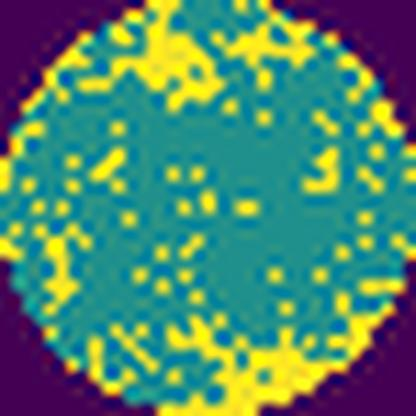Edge-Loc: (154, 299, 408, 416)
